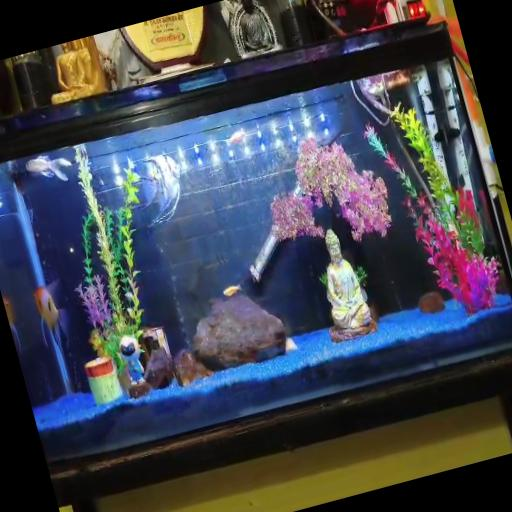Fish: (141, 155, 180, 226), (34, 282, 68, 354), (26, 155, 71, 181), (3, 298, 22, 354), (229, 129, 246, 144), (224, 285, 241, 297)
